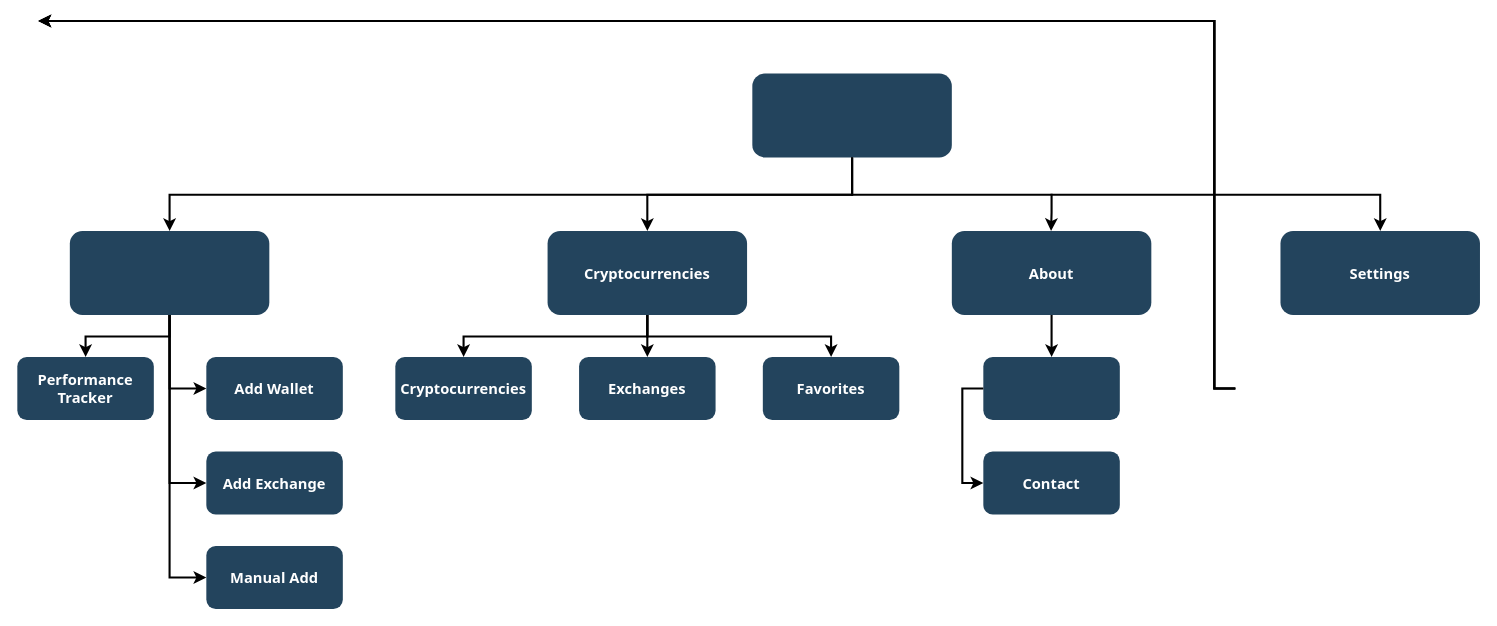
The diagram is 1497 pixels wide and 626 high, and some of its shapes have lost their labels. The centre of each missing label's shape, as x and y in pixels:
FAQ: [1051,387]
Home: [851,115]
Portfolio: [169,272]
